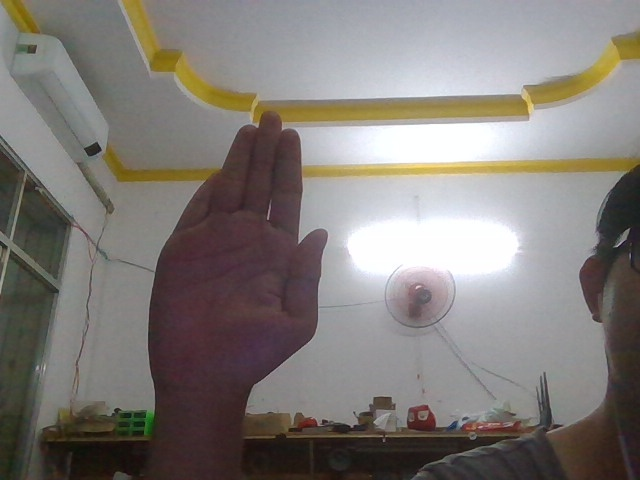stop: (140, 98, 341, 388)
